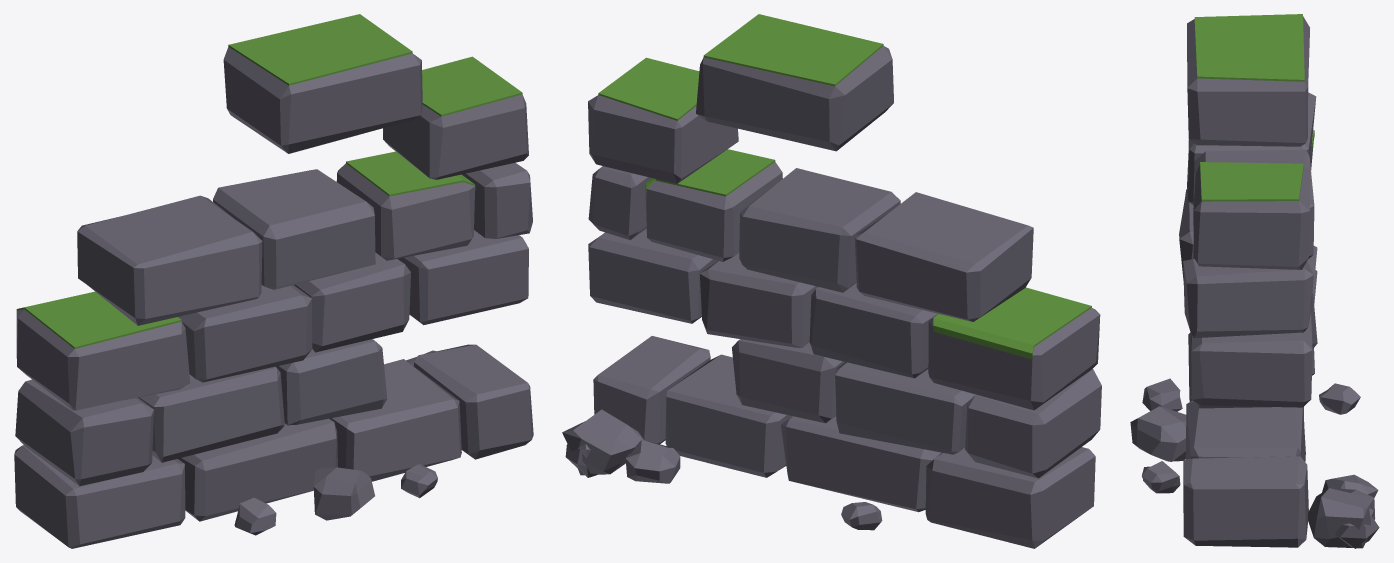
File: StoneWall2.fbx
3 renders of one model, left to right at view 1: azimuth 30°, elevation 25°; view 2: azimuth 150°, elevation 25°; view 3: azimuth 270°, elevation 25°, orthographic.
Visible parts, largest first — view 1: Stone, Moss; view 2: Stone, Moss; view 3: Stone, Moss.
Part boxes in pixels (x1=…): Stone: x1=14, y1=47, x2=533, y2=548; Moss: x1=16, y1=14, x2=522, y2=348; Stone: x1=562, y1=46, x2=1101, y2=548; Moss: x1=598, y1=14, x2=1091, y2=359; Stone: x1=1130, y1=16, x2=1379, y2=548; Moss: x1=1194, y1=14, x2=1314, y2=201.
Size of the model in its own units: 7.99 by 7.04 by 3.74.
